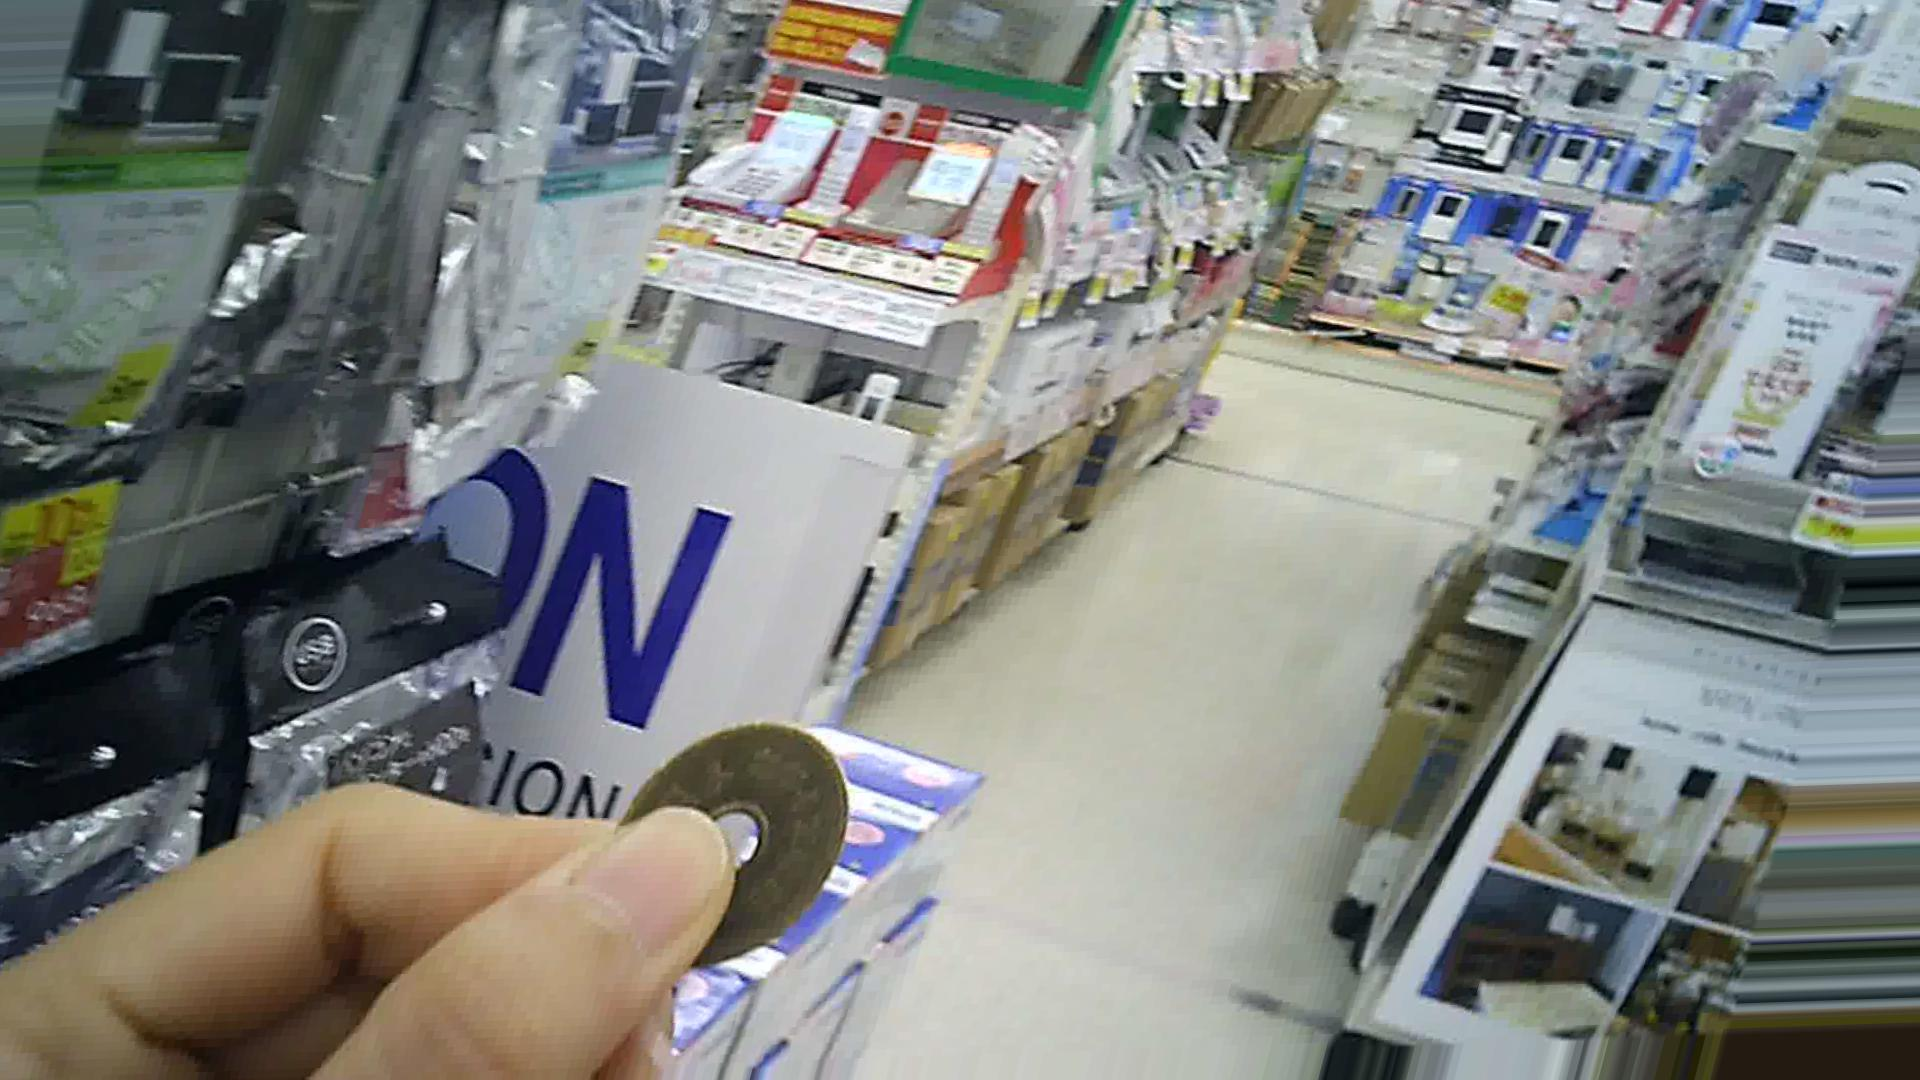5 Yen: (593, 713, 860, 998)
